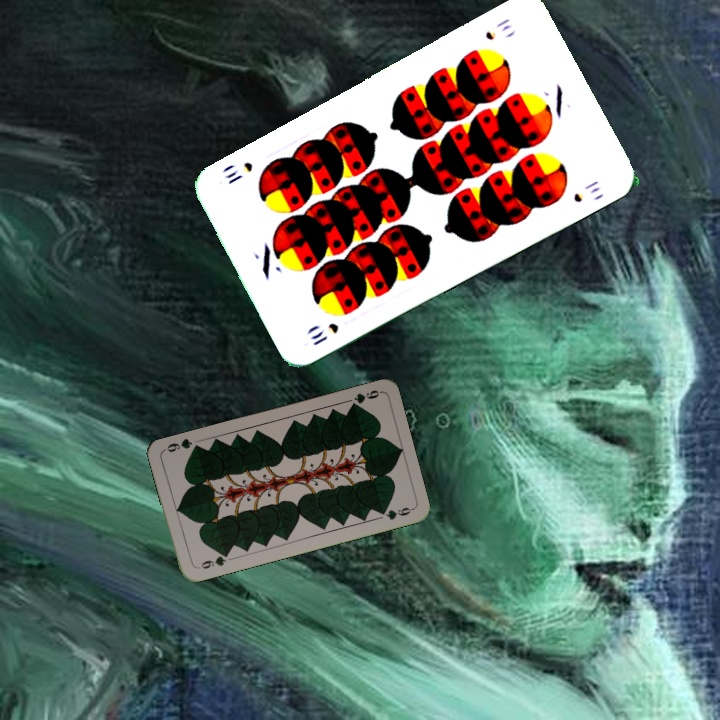G9: (345, 386, 383, 411), (193, 549, 231, 572)
S10: (306, 318, 342, 349), (481, 14, 514, 43)
